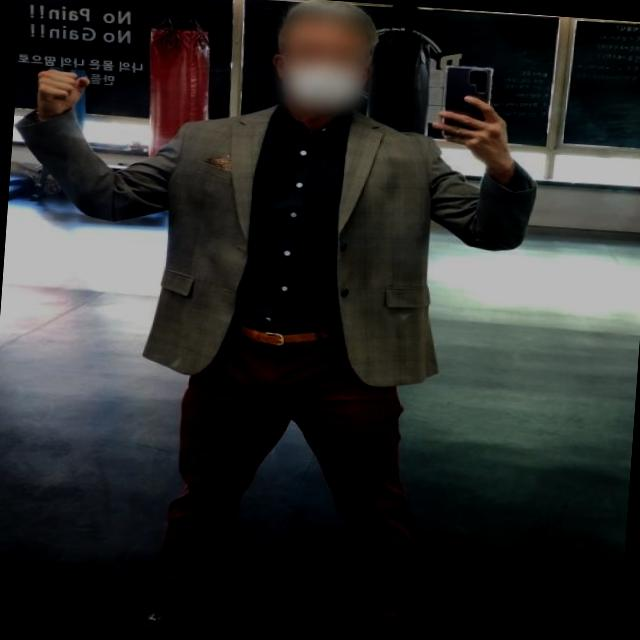blazer: (0, 81, 544, 397)
cottonpants: (149, 319, 431, 640)
